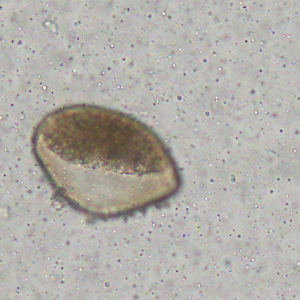Fasciola_hepatica_egg: (30, 102, 182, 219)
